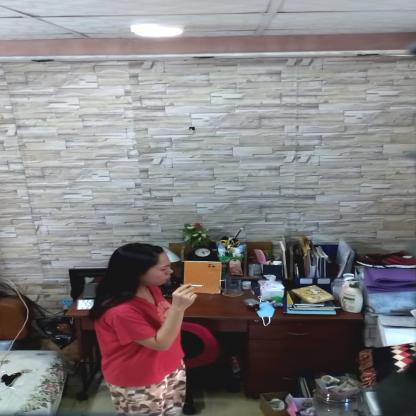cigarette: (190, 284, 204, 287)
person: (90, 242, 194, 415)
